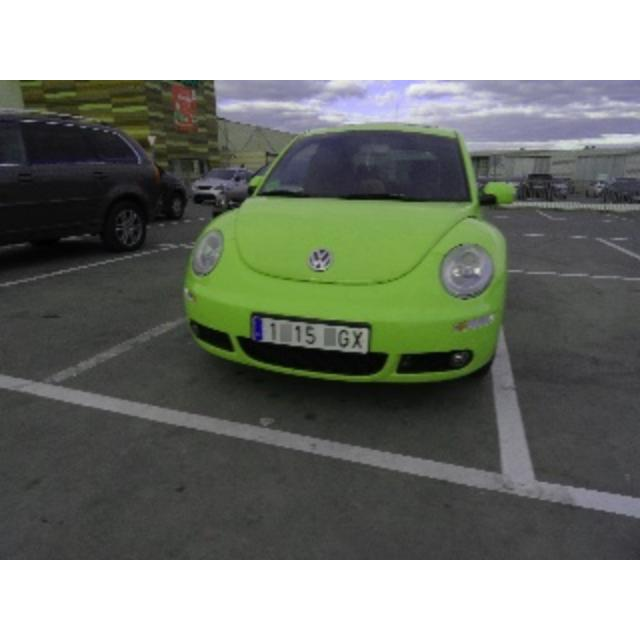car: (183, 124, 517, 390), (0, 106, 158, 256)
plate: (254, 318, 368, 352)
